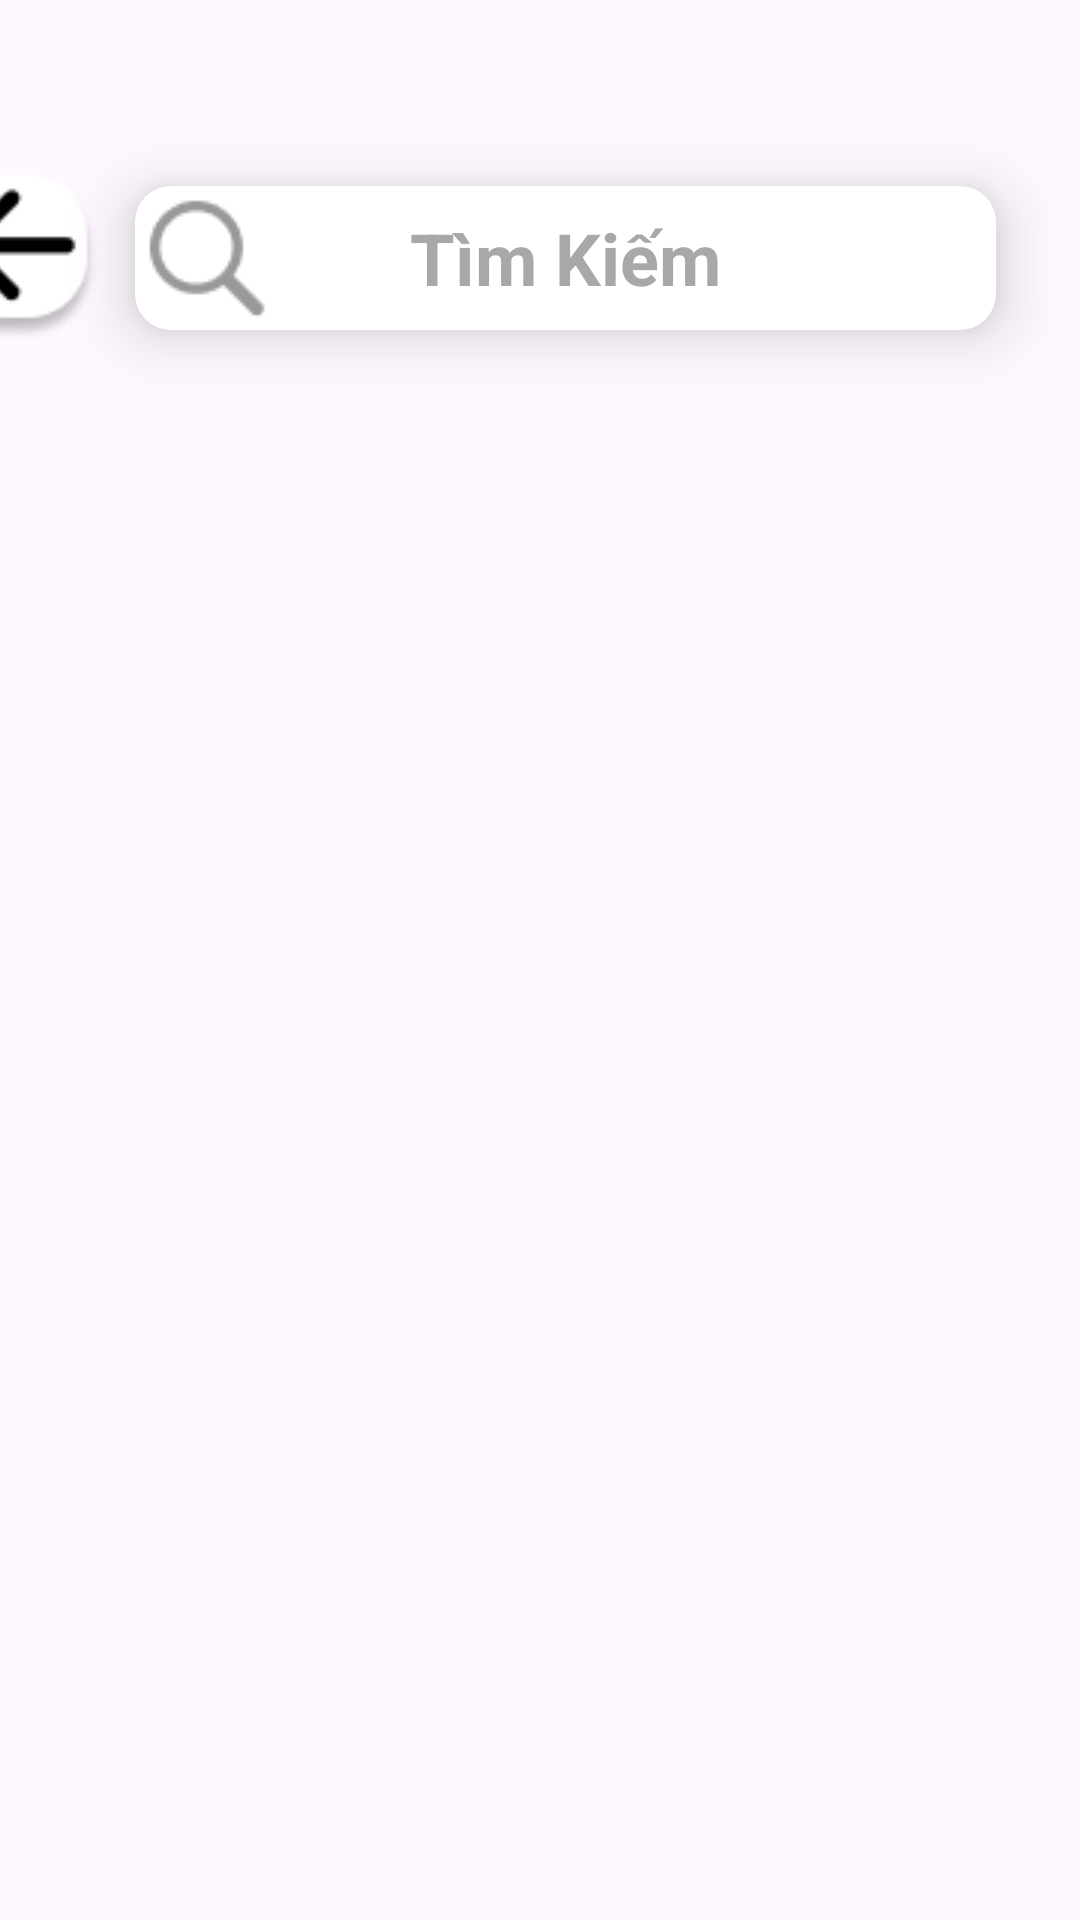

Named icons in this screenshot (1080px×1920px) and their bounding boxes, (x1, y1, x2, y2):
search: (135, 186, 279, 330)
